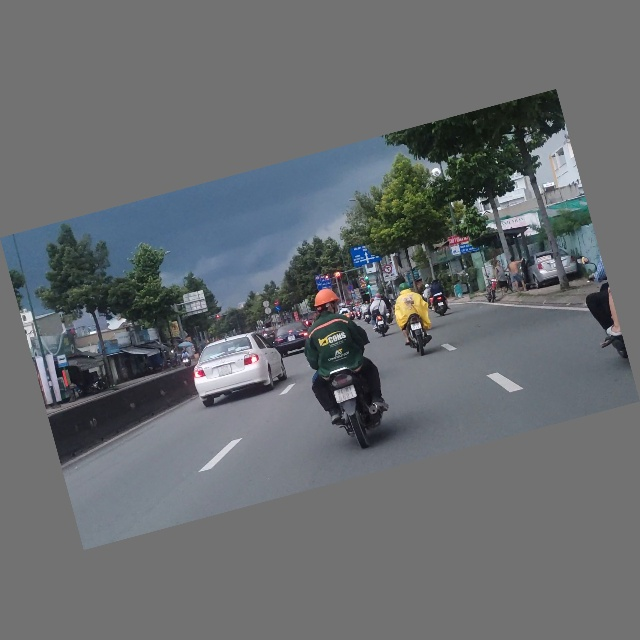P.137: (383, 264, 393, 274)
R.302a: (275, 306, 281, 312)
R.415a: (316, 277, 333, 292)
